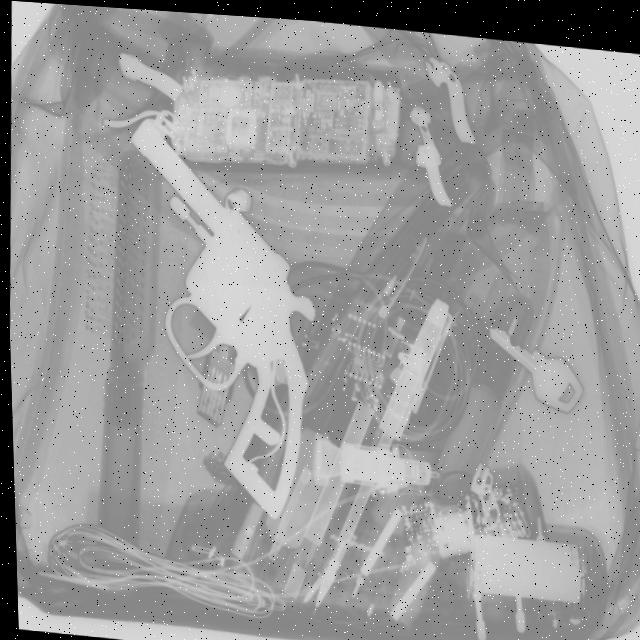pistol: (115, 112, 324, 516)
